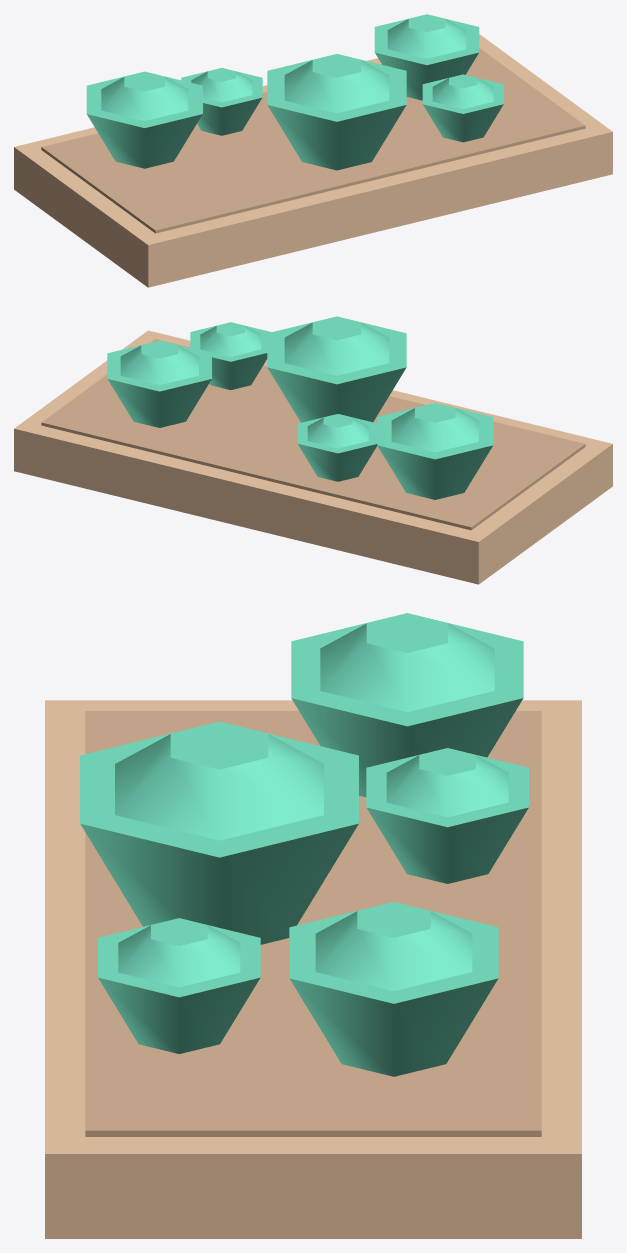
Rendered from plantSucculentTray.glb.
3 renders of one model, top to bottom at view 1: azimuth 30°, elevation 25°; view 2: azimuth 150°, elevation 25°; view 3: azimuth 270°, elevation 25°, orthographic. The views are drawn at different scales.
Visible parts, largest first — view 1: plantSucculentTray; view 2: plantSucculentTray; view 3: plantSucculentTray.
Boxes of the visible parts, x1,y1,x2,y2 form: plantSucculentTray: (14, 14, 612, 287); plantSucculentTray: (14, 316, 612, 584); plantSucculentTray: (45, 613, 581, 1238).
Bounding box in the file's own units: 0.4 × 0.1095 × 0.2.
